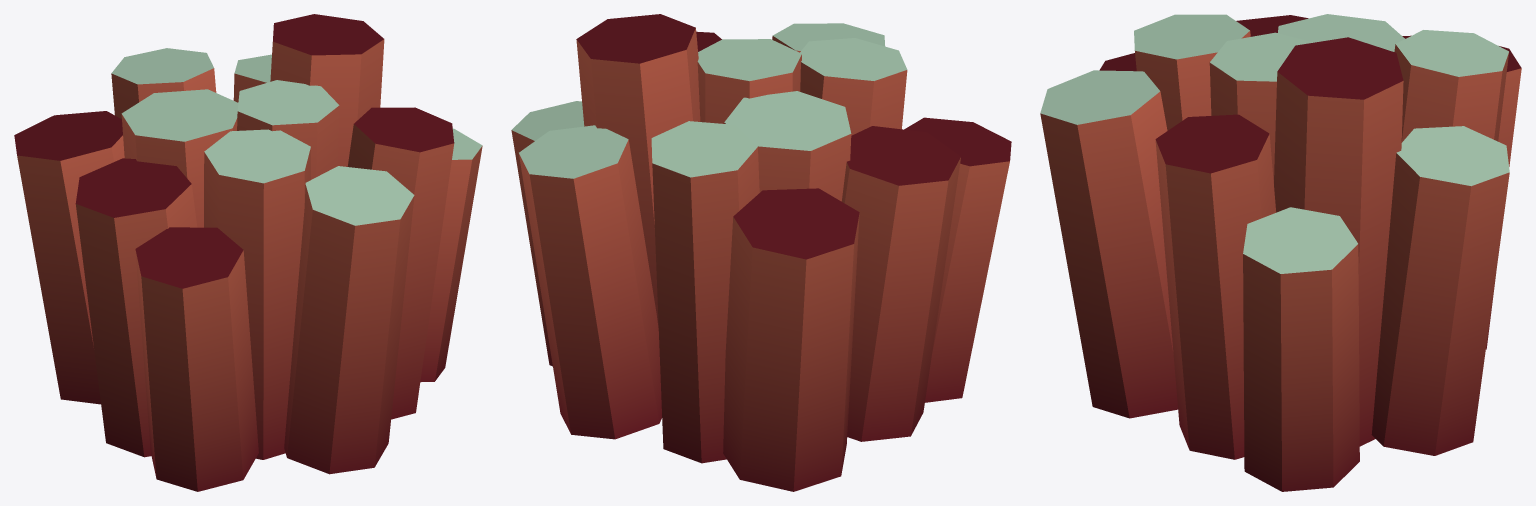
The model's file is coral-organpipe.glb.
The picture shows the model from 3 angles, left to right: view 1: azimuth 30°, elevation 25°; view 2: azimuth 150°, elevation 25°; view 3: azimuth 270°, elevation 25°; orthographic projection. The views are drawn at different scales.
Visible parts, largest first — view 1: coral-organpipe_mesh; view 2: coral-organpipe_mesh; view 3: coral-organpipe_mesh.
Boxes of the visible parts, x1,y1,x2,y2 form: coral-organpipe_mesh: (14,14,482,491); coral-organpipe_mesh: (511,14,1011,491); coral-organpipe_mesh: (1040,14,1521,491).
Size of the model in its own units: 2.28 by 1.84 by 2.12.
